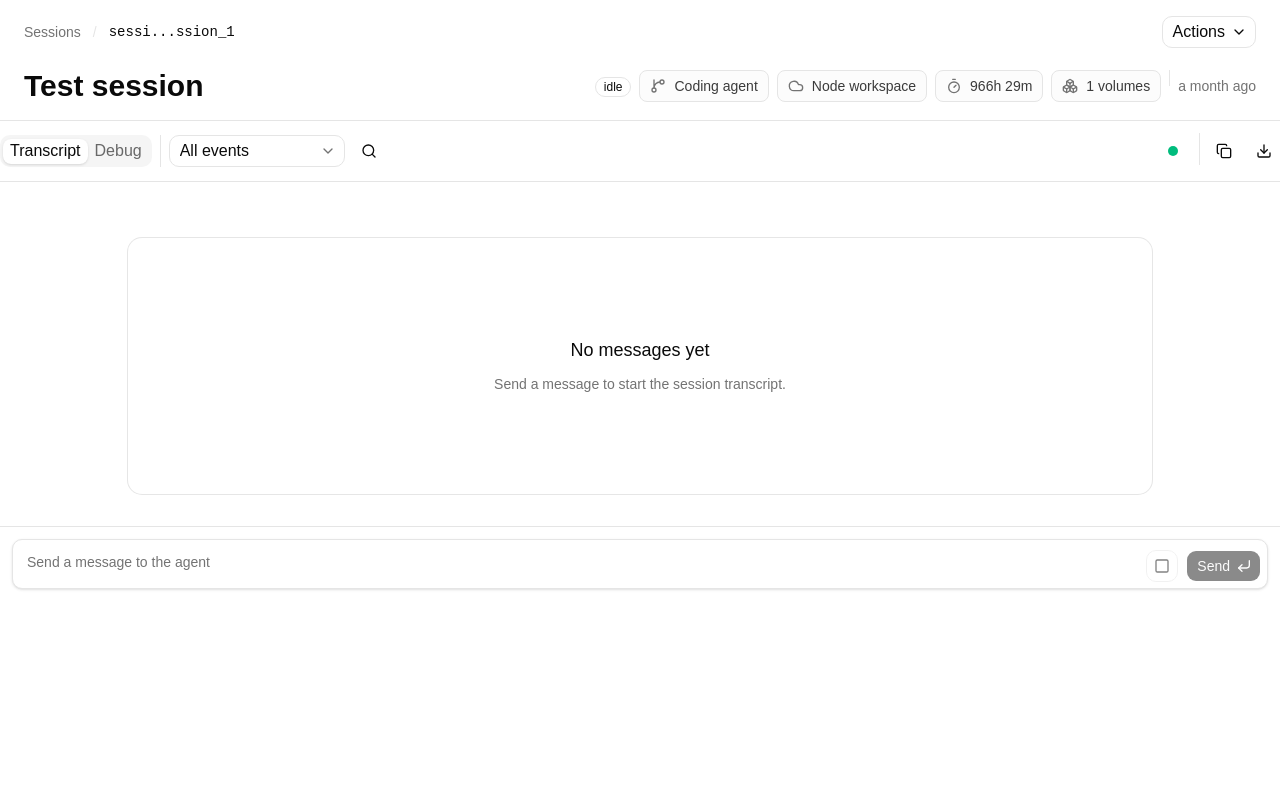
Test: SessionDetailView › renders secret volumes in volumes sheet
Click the button with aria-label "Open session volumes": [1106, 86] box [1051,70,1161,102]
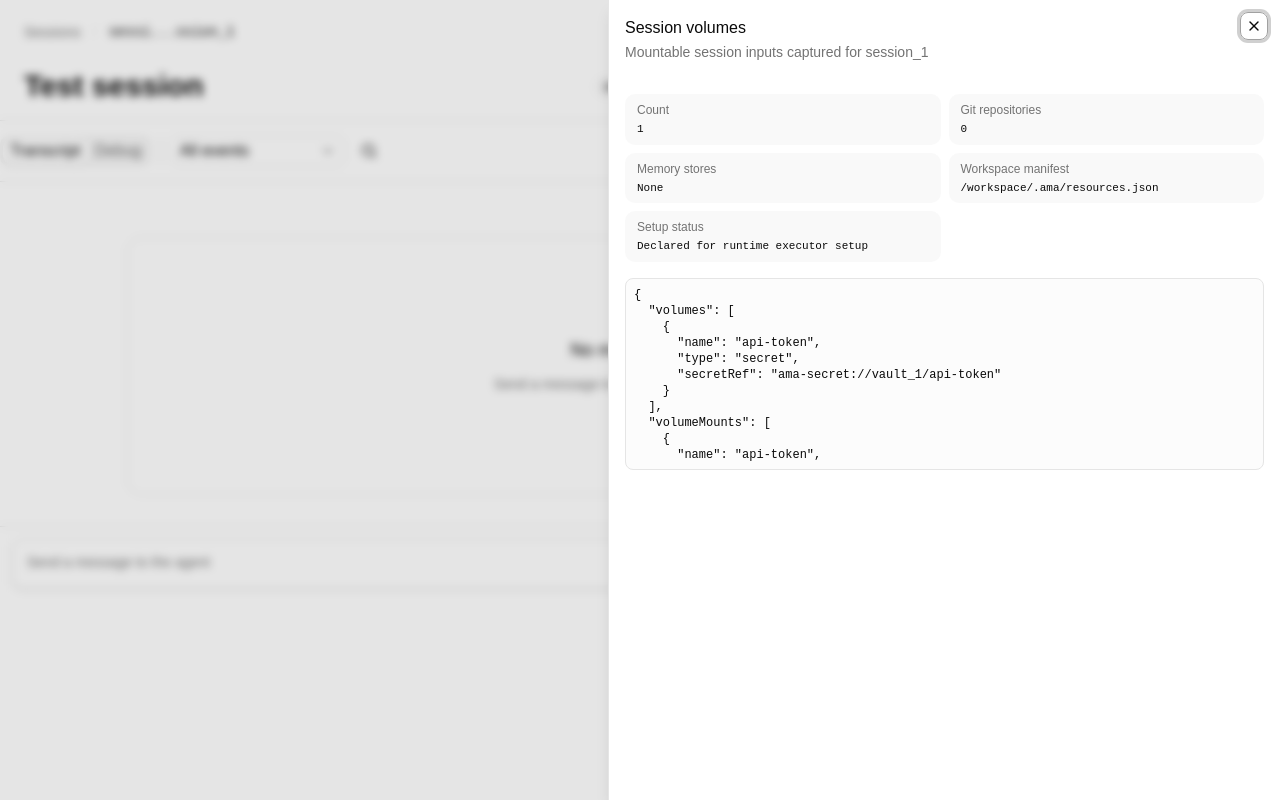
expect the heading "Session volumes" is shown: met, box [625,19,746,36]
expect the text "0" is shown: met, box [960,123,967,135]
